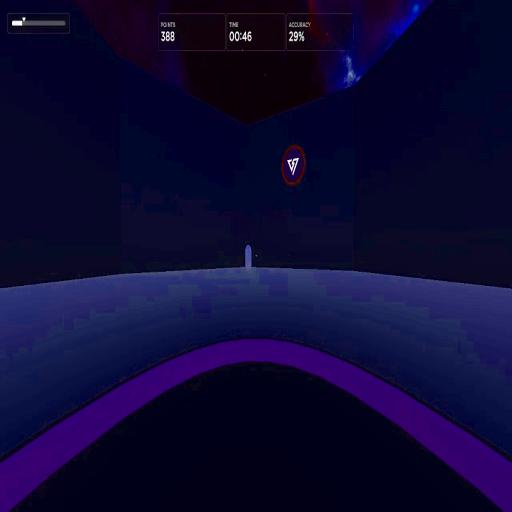Crosshair: (255, 254, 257, 257)
Target: (244, 244, 252, 270)
